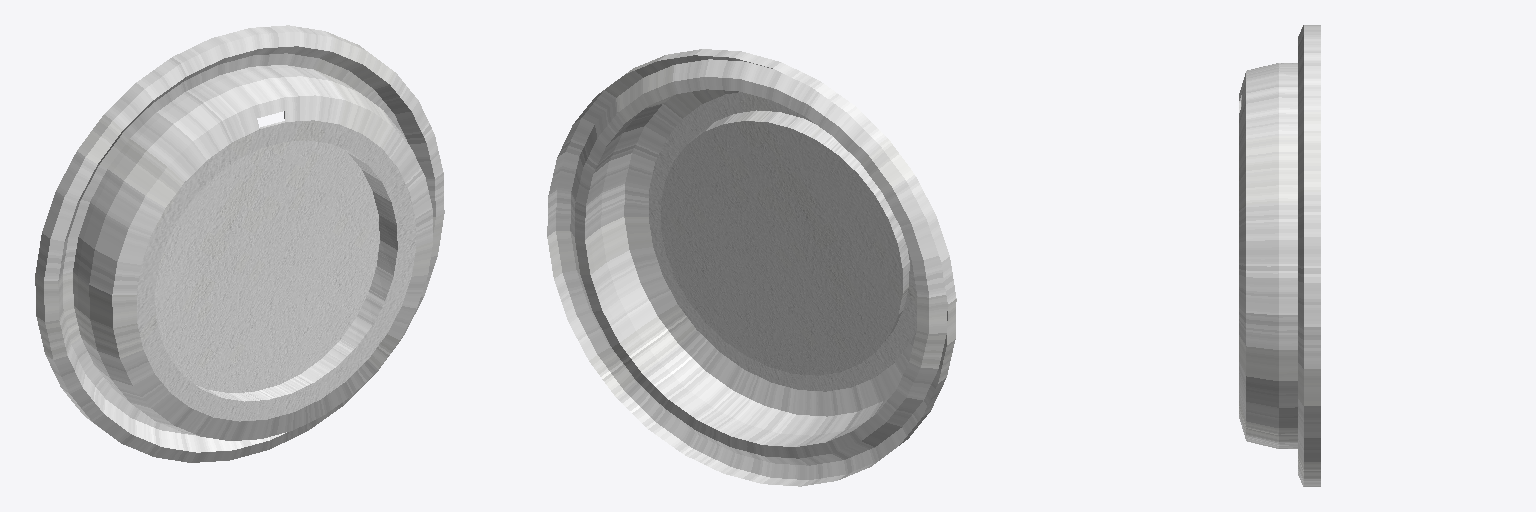
3 renders of one model, left to right at view 1: azimuth 30°, elevation 25°; view 2: azimuth 150°, elevation 25°; view 3: azimuth 270°, elevation 25°, orthographic.
Bounding box in the file's own units: 0.4731 × 0.4731 × 0.0836.
Materials: 1 (1 with a texture image).